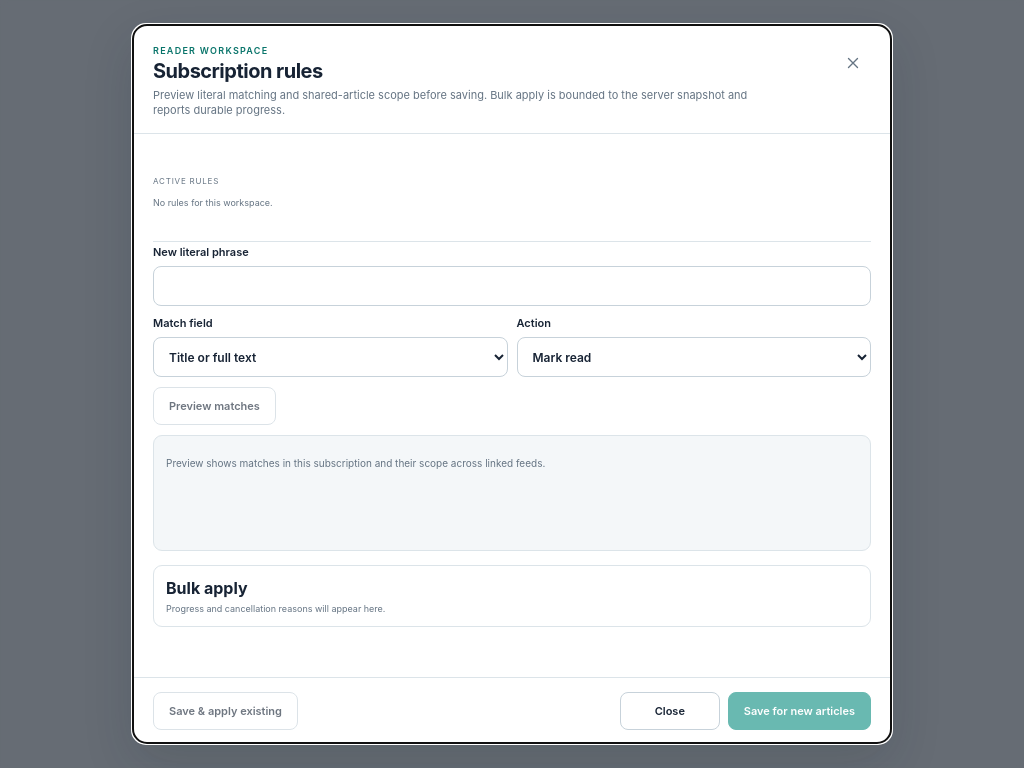
Test: RulesDialog › reports terminal bulk progress and cancellation reason
The image size is (1024, 768).
Step 1. Type "career" into the field labelled "New literal phrase" → x=512, y=286, box [153,266,871,306]
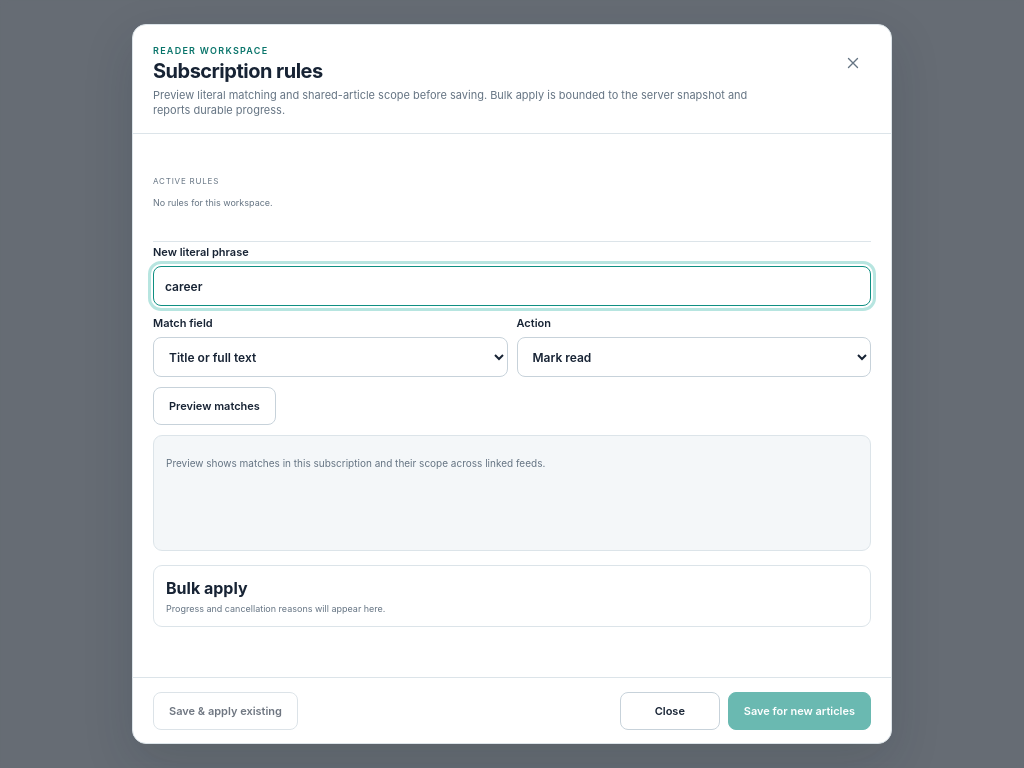
Step 2. Select "Title" in the dropdown labelled "Match field" → x=330, y=357, box [153,337,508,377]
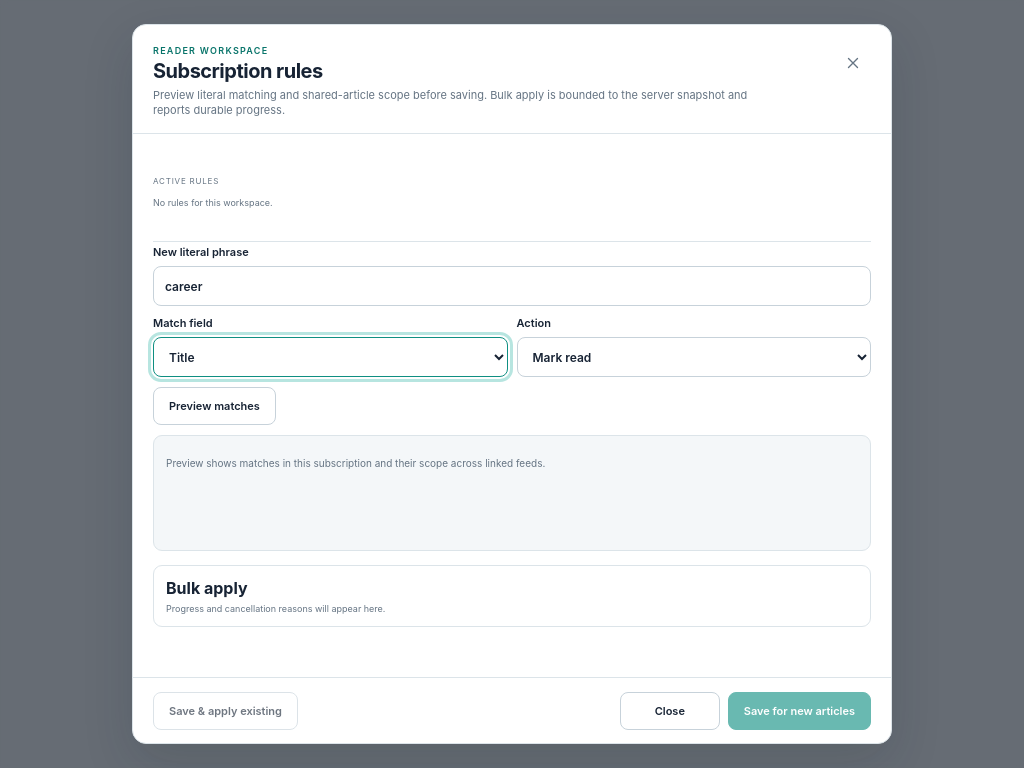
Step 3. Select "Mark read" in the dropdown labelled "Action" → x=694, y=357, box [516,337,871,377]
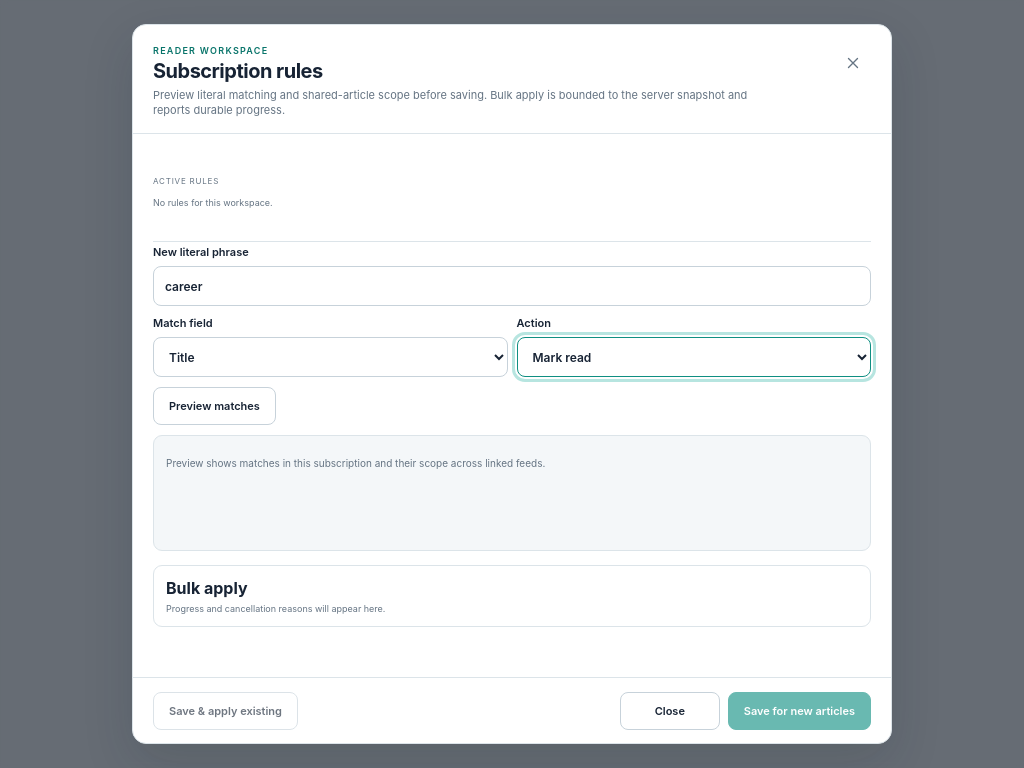
Step 4. Click the button "Preview matches" → x=214, y=406, box [153,387,276,425]
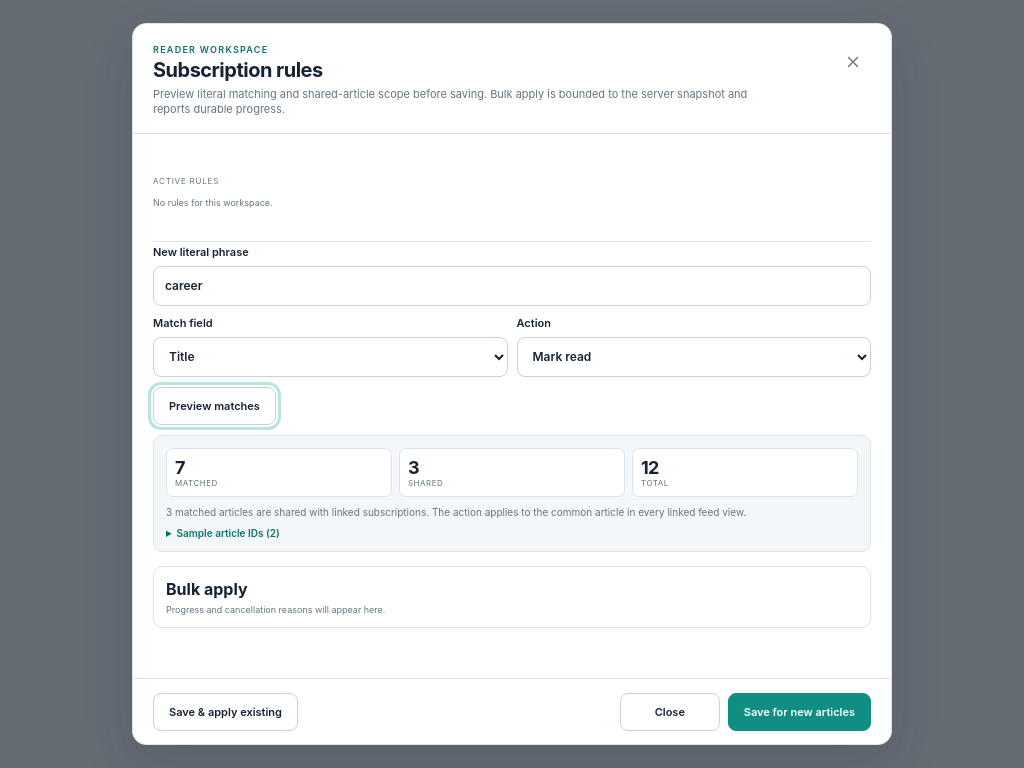
Check: the text "7" is shown, box [175,457,185,478]
Step 5. Double-click the button "Save & apply existing" → x=226, y=712, box [153,693,298,731]
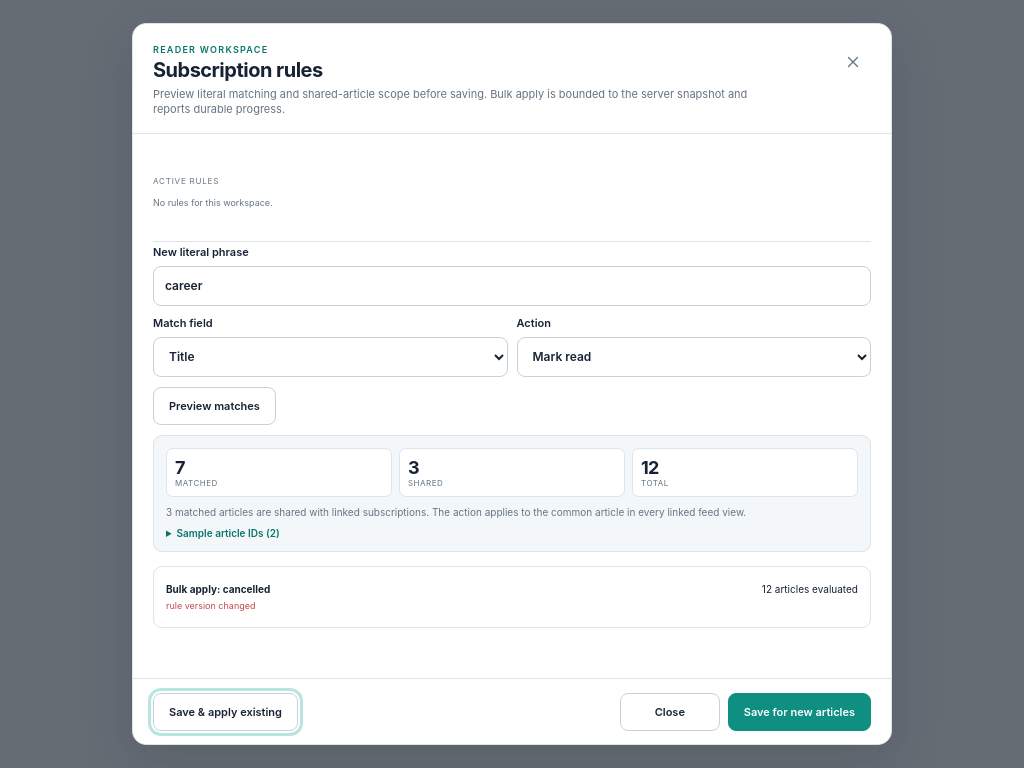
Check: the text "Bulk apply: cancelled" is shown, box [166,583,270,595]
Check: the text "12 articles evaluated" is shown, box [762,583,858,595]
Check: the text "rule version changed" is shown, box [166,600,256,611]
